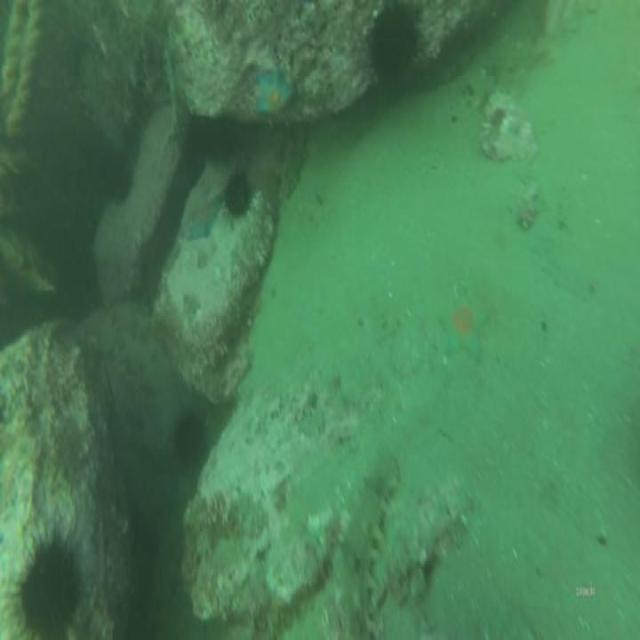echinus: (18, 524, 81, 640), (364, 1, 428, 94), (167, 401, 213, 468), (221, 169, 256, 221), (104, 144, 132, 204)
holothurian: (335, 456, 402, 640)
starfish: (438, 286, 491, 365), (256, 70, 295, 122), (188, 196, 222, 245)
